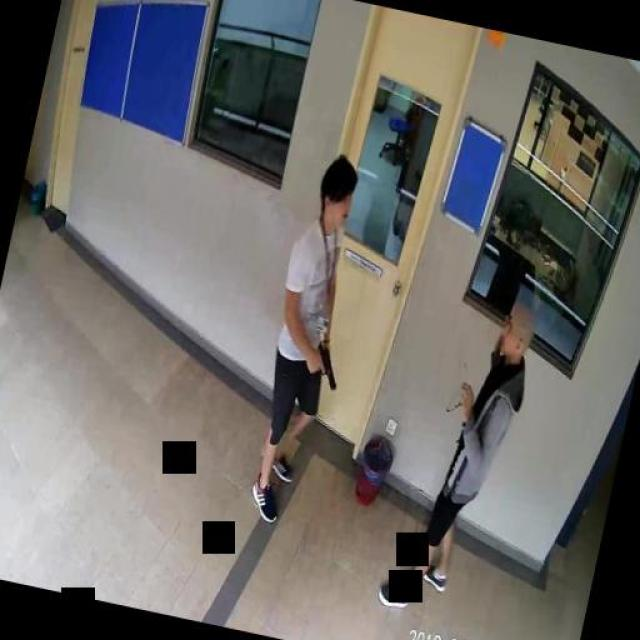gun: (305, 342, 341, 392)
